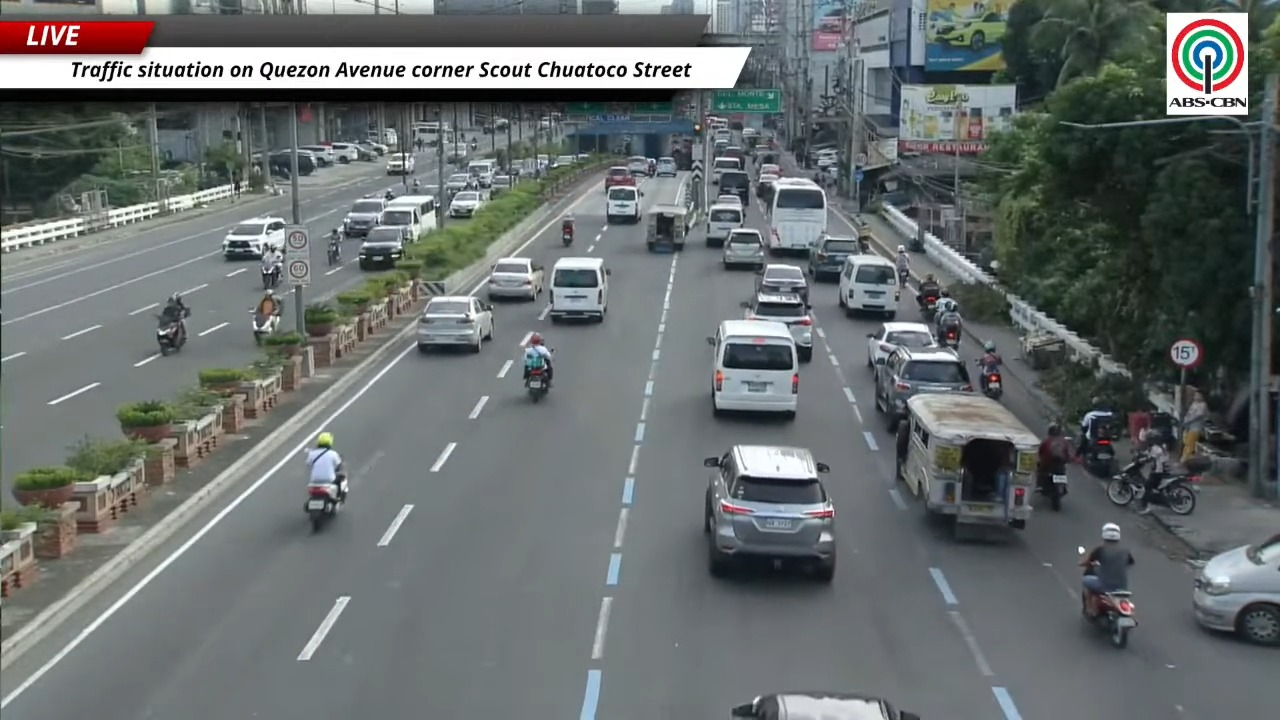bus: (767, 178, 827, 252), (412, 122, 450, 146)
car: (703, 445, 835, 581), (1192, 534, 1279, 645), (875, 347, 972, 431), (730, 691, 920, 719), (741, 292, 813, 361), (417, 296, 493, 352), (867, 322, 936, 369), (931, 12, 1006, 50), (221, 218, 286, 259), (809, 235, 863, 281), (487, 257, 544, 300), (755, 263, 808, 302), (358, 227, 404, 269), (722, 228, 765, 269), (343, 196, 386, 237), (448, 190, 484, 218), (299, 145, 336, 167), (604, 166, 635, 192), (445, 173, 476, 197), (819, 6, 846, 33), (756, 175, 778, 207), (386, 152, 415, 175), (329, 142, 359, 163), (356, 139, 389, 156), (489, 176, 513, 197), (297, 151, 316, 176), (627, 155, 649, 176), (816, 149, 838, 169), (657, 157, 677, 176), (758, 163, 781, 178), (714, 194, 742, 206), (551, 155, 576, 168), (741, 127, 759, 138), (576, 153, 589, 161)
motorcycle: (1106, 454, 1198, 515), (1082, 591, 1137, 648), (1081, 422, 1115, 478), (305, 484, 342, 531), (1037, 466, 1068, 511), (156, 315, 185, 355), (976, 359, 1002, 400), (250, 310, 279, 344), (525, 367, 549, 402), (938, 325, 960, 350), (260, 263, 280, 288), (920, 296, 938, 322), (327, 238, 340, 265), (562, 224, 574, 247), (898, 269, 909, 287)
